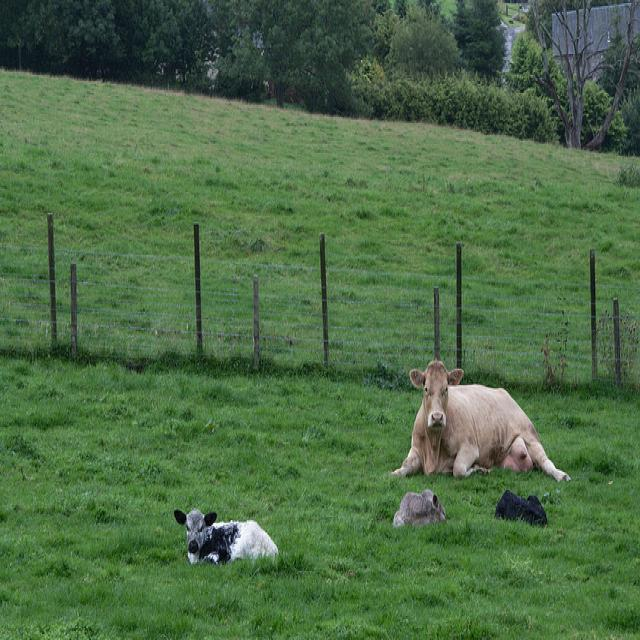cow: (381, 358, 570, 480), (171, 507, 279, 564), (391, 487, 444, 526), (493, 487, 544, 523)
